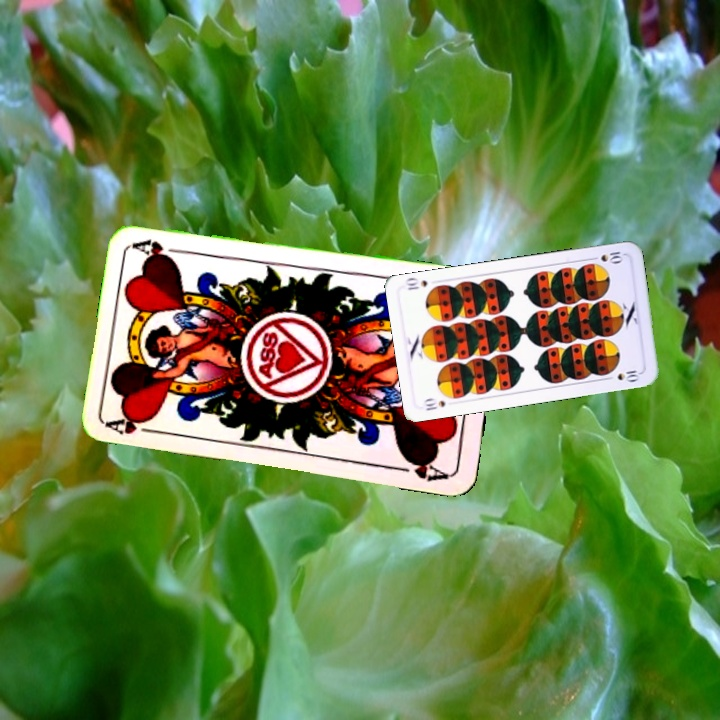HA: (105, 410, 164, 437)
S10: (586, 247, 625, 266), (420, 394, 448, 413)
